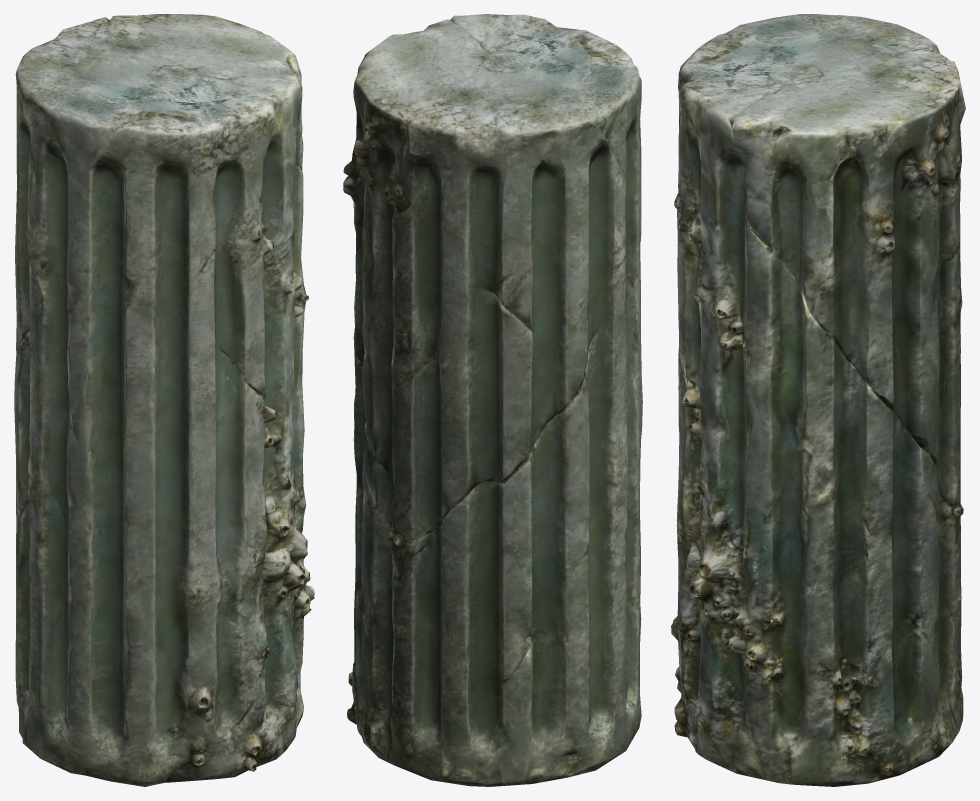
Rendered from T18_shaft_lo.glb.
3 views of the same model, side by side, from view 1: azimuth 30°, elevation 25°; view 2: azimuth 150°, elevation 25°; view 3: azimuth 270°, elevation 25° (orthographic).
Visible parts, largest first — view 1: tripo_node_960f94f6-96f3-4837-86c4-864c579a4a5d; view 2: tripo_node_960f94f6-96f3-4837-86c4-864c579a4a5d; view 3: tripo_node_960f94f6-96f3-4837-86c4-864c579a4a5d.
Part boxes in pixels (x1,y1,x2,y2): tripo_node_960f94f6-96f3-4837-86c4-864c579a4a5d: [14, 14, 314, 786]; tripo_node_960f94f6-96f3-4837-86c4-864c579a4a5d: [343, 14, 642, 786]; tripo_node_960f94f6-96f3-4837-86c4-864c579a4a5d: [671, 14, 965, 786].
Bounding box in the file's own units: 0.3959 × 0.9763 × 0.3965.
Materials: 1 (1 with a texture image).
